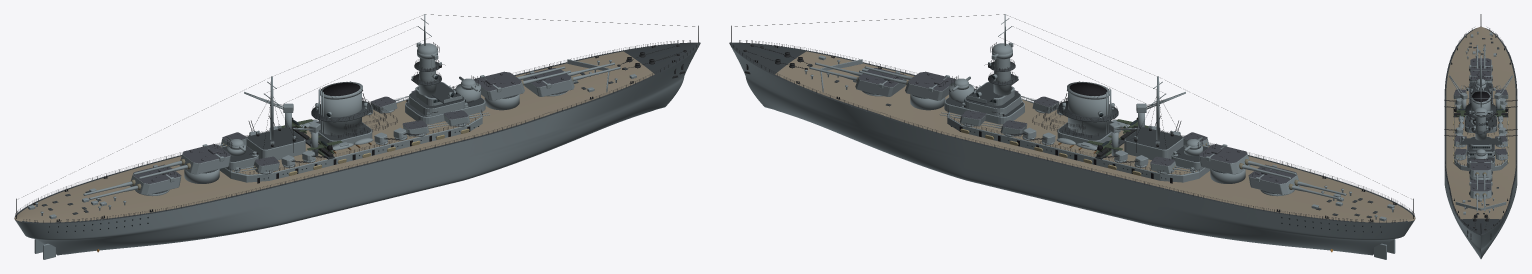
The model's file is bismarck.glb.
3 renders of one model, left to right at view 1: azimuth 30°, elevation 25°; view 2: azimuth 150°, elevation 25°; view 3: azimuth 270°, elevation 25°, orthographic. The views are drawn at different scales.
Visible parts, largest first — view 1: Bismarck, T_C_malla, T_B_malla, T_D_malla, T_A_malla; view 2: Bismarck, T_C_malla, T_B_malla, T_D_malla, T_A_malla; view 3: Bismarck, T_B_malla, T_A_malla, T_C_malla, T_D_malla, T_S1_malla, T_S2_malla, C_B, C_A, T_S5_malla, T_S6_malla, T_S3_malla (+2 smaller).
Part boxes in pixels (x1,y1,x2,y2): Bismarck: [14, 14, 700, 259]; T_C_malla: [179, 143, 230, 174]; T_B_malla: [474, 71, 524, 100]; T_D_malla: [130, 164, 181, 195]; T_A_malla: [523, 68, 574, 96]; Bismarck: [729, 14, 1415, 259]; T_C_malla: [1199, 143, 1250, 174]; T_B_malla: [905, 71, 955, 100]; T_D_malla: [1248, 164, 1299, 195]; T_A_malla: [855, 68, 906, 96]; Bismarck: [1444, 14, 1517, 258]; T_B_malla: [1469, 159, 1492, 177]; T_A_malla: [1469, 180, 1492, 198]; T_C_malla: [1469, 68, 1492, 83]; T_D_malla: [1469, 58, 1492, 69]; T_S1_malla: [1495, 148, 1507, 159]; T_S2_malla: [1454, 148, 1466, 159]; C_B: [1475, 172, 1486, 190]; C_A: [1475, 193, 1486, 211]; T_S5_malla: [1495, 89, 1508, 98]; T_S6_malla: [1453, 89, 1466, 98]; T_S3_malla: [1495, 135, 1507, 146].
Bounding box in the file's own units: 251 × 53.15 × 36.52.
